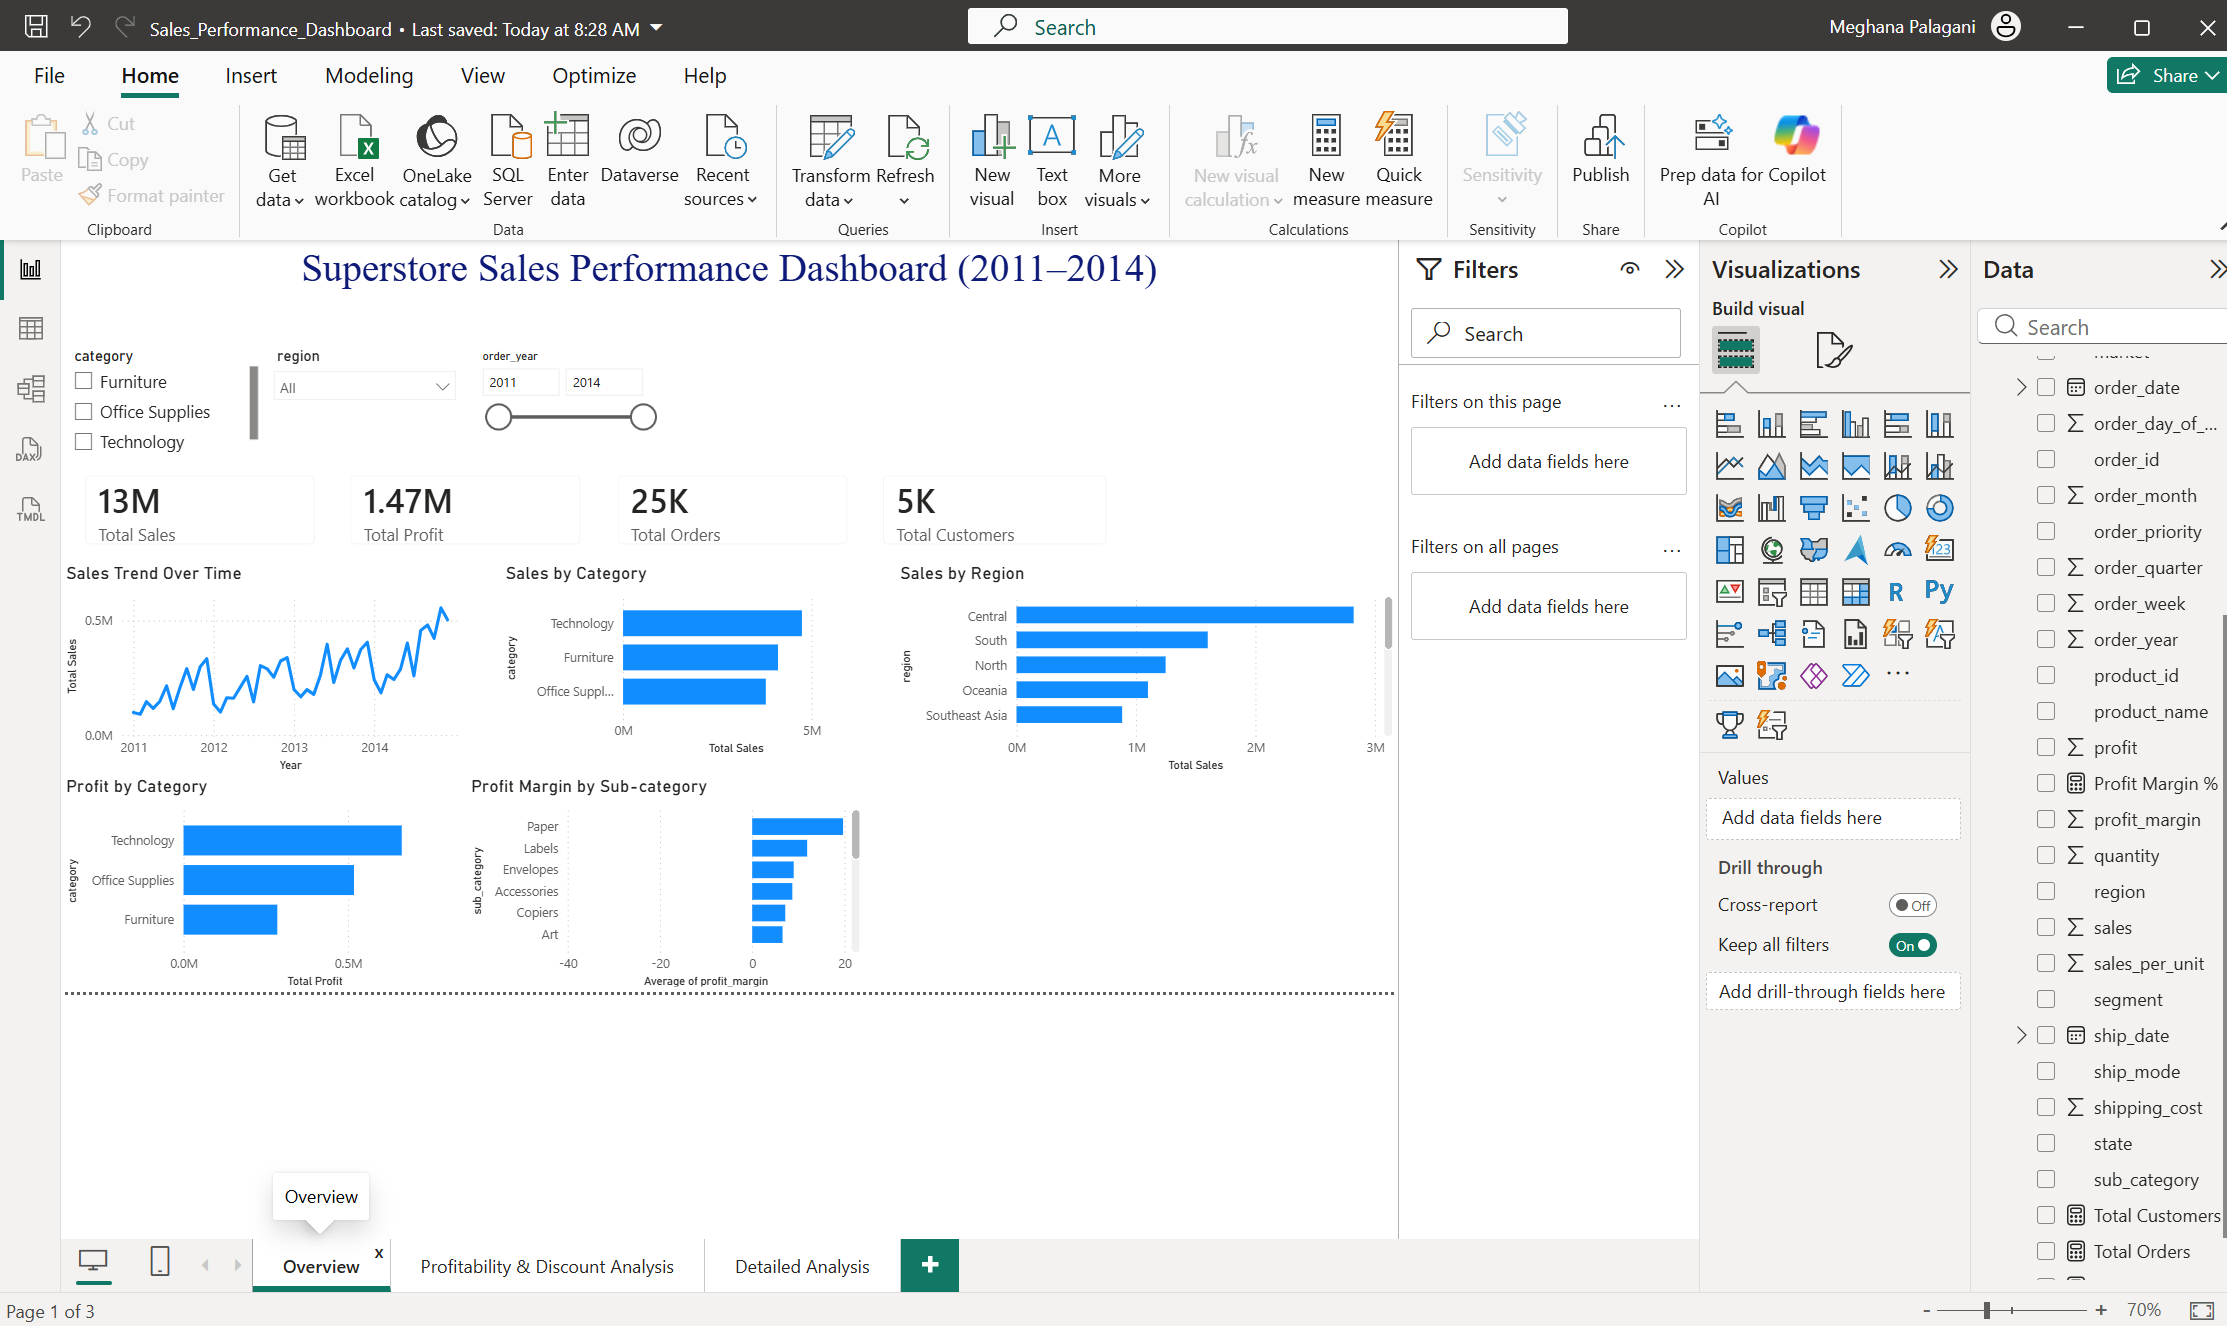

This screenshot's page, from the dashboard's own definition file:
{"tool":"powerbi","page":{"name":"Overview","canvas":[1280,720],"ordinal":0},"visuals":[{"type":"cardVisual","fields":{"Data":["superstore_cleaned_complete.Total Sales"]},"box":[5.7,208.2,254.2,100.5],"z":0},{"type":"cardVisual","fields":{"Data":["superstore_cleaned_complete.Total Profit"]},"box":[259.9,208.2,254.2,100.5],"z":1000},{"type":"cardVisual","fields":{"Data":["superstore_cleaned_complete.Total Orders"]},"box":[515.5,208.2,254.2,100.5],"z":2000},{"type":"cardVisual","fields":{"Data":["superstore_cleaned_complete.Total Customers"]},"box":[769.7,208.2,248.4,100.5],"z":3000},{"type":"slicer","fields":{"Values":["superstore_cleaned_complete.category"]},"box":[0,97.7,193.9,110.6],"z":4000},{"type":"slicer","fields":{"Values":["superstore_cleaned_complete.region"]},"box":[193.9,97.7,193.9,110.6],"z":5000},{"type":"slicer","fields":{"Values":["superstore_cleaned_complete.order_year"]},"box":[390.6,99.1,188.1,110.6],"z":6000},{"type":"lineChart","title":"Sales Trend Over Time","fields":{"Y":["superstore_cleaned_complete.Total Sales"],"Category":["superstore_cleaned_complete.order_date.Variation.Date Hierarchy.Year","superstore_cleaned_complete.order_date.Variation.Date Hierarchy.Quarter","superstore_cleaned_complete.order_date.Variation.Date Hierarchy.Month","superstore_cleaned_complete.order_date.Variation.Date Hierarchy.Day"]},"box":[0,308.8,387.7,203.9],"z":7000},{"type":"barChart","title":"Sales by Category","fields":{"Y":["superstore_cleaned_complete.Total Sales"],"Category":["superstore_cleaned_complete.category"]},"box":[420.8,308.8,347.5,188.1],"z":8000},{"type":"barChart","title":"Sales by Region","fields":{"Y":["superstore_cleaned_complete.Total Sales"],"Category":["superstore_cleaned_complete.region"]},"box":[798.4,308.8,481.1,203.9],"z":9000},{"type":"barChart","title":"Profit by Category","fields":{"Category":["superstore_cleaned_complete.category"],"Y":["superstore_cleaned_complete.Total Profit"]},"box":[0,512.7,387.7,206.8],"z":10000},{"type":"barChart","title":"Profit Margin by Sub-category","fields":{"Category":["superstore_cleaned_complete.sub_category"],"Y":["Avg(superstore_cleaned_complete.profit_margin)"]},"box":[387.7,512.7,382,206.8],"z":11000},{"type":"textbox","box":[0,0,1279.5,76.1],"z":12000}]}

Visuals, with their boxes on the page's 1280x720 design canvas (x1, y1, x2, y2). These are canvas units, not pixel positions in the 2227x1326 screenshot, which may show the page scaled, cropped or inside an application window:
cardVisual - superstore_cleaned_complete.Total Sales: (6,208,260,309)
cardVisual - superstore_cleaned_complete.Total Profit: (260,208,514,309)
cardVisual - superstore_cleaned_complete.Total Orders: (516,208,770,309)
cardVisual - superstore_cleaned_complete.Total Customers: (770,208,1018,309)
slicer - superstore_cleaned_complete.category: (0,98,194,208)
slicer - superstore_cleaned_complete.region: (194,98,388,208)
slicer - superstore_cleaned_complete.order_year: (391,99,579,210)
"Sales Trend Over Time" lineChart: (0,309,388,513)
"Sales by Category" barChart: (421,309,768,497)
"Sales by Region" barChart: (798,309,1280,513)
"Profit by Category" barChart: (0,513,388,720)
"Profit Margin by Sub-category" barChart: (388,513,770,720)
textbox: (0,0,1280,76)
